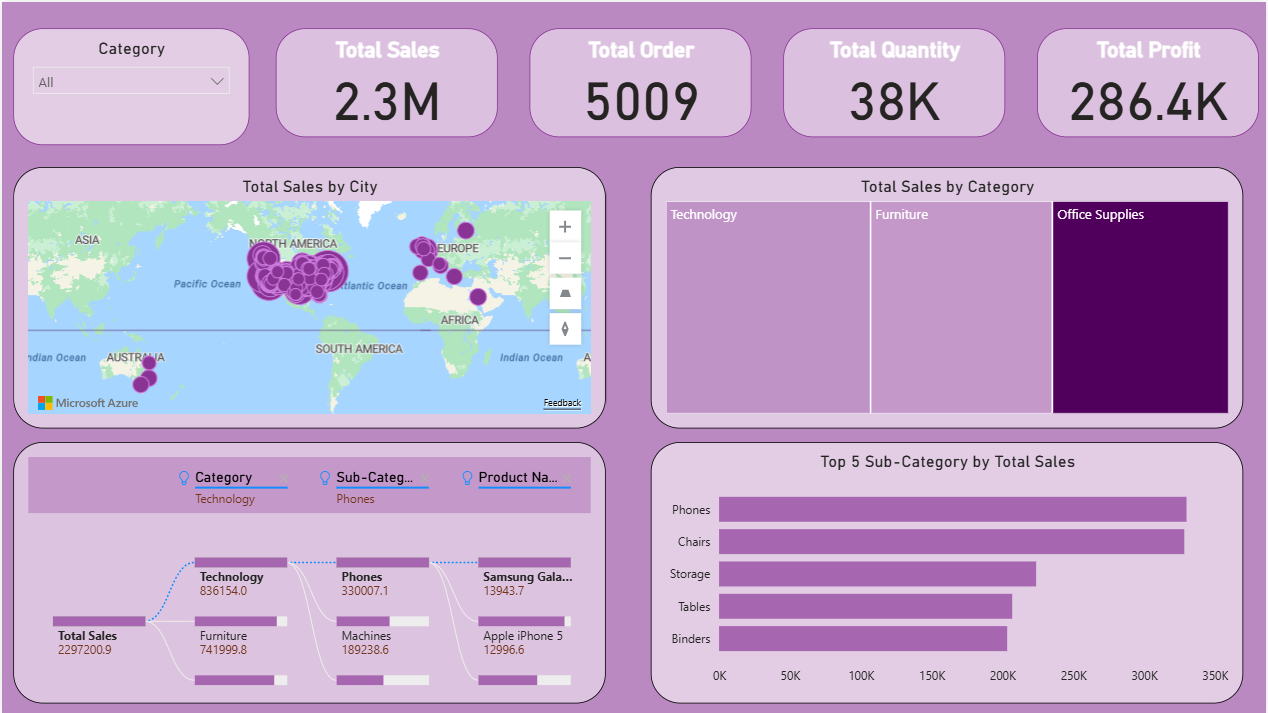

Layout of this report page (visuals, bound fields, positions):
{"tool":"powerbi","page":{"name":"Page 3","canvas":[1280,720],"ordinal":2},"visuals":[{"type":"card","title":"Total Order","fields":{"Values":["Dax_Measure.Total orders"]},"box":[534,27,225,110],"z":0},{"type":"card","title":"Total Sales","fields":{"Values":["Dax_Measure.Total Sales"]},"box":[277,27,225,110],"z":1000},{"type":"card","title":"Total Quantity","fields":{"Values":["Dax_Measure.Total Quantity"]},"box":[790.9,27,225,110],"z":2000},{"type":"card","title":"Total Profit","fields":{"Values":["Dax_Measure.Total Profit"]},"box":[1047.9,27,225,110],"z":3000},{"type":"slicer","title":"Category","fields":{"Values":["ProductDim.Category"]},"box":[10.9,26.5,238.9,118.2],"z":4000},{"type":"azureMap","fields":{"Size":["Dax_Measure.Total Sales"],"Category":["CustomerDim.City"]},"box":[11.4,167.1,600,265],"z":5000},{"type":"treemap","fields":{"Group":["ProductDim.Category Hierarchy.Category","ProductDim.Category Hierarchy.Sub-Category","ProductDim.Category Hierarchy.Product Name"],"Values":["Dax_Measure.Total Sales"]},"box":[657,167.1,600,264.6],"z":6000},{"type":"decompositionTreeVisual","fields":{"ExplainBy":["ProductDim.Category Hierarchy.Category","ProductDim.Category Hierarchy.Sub-Category","ProductDim.Category Hierarchy.Product Name"],"Analyze":["Dax_Measure.Total Sales"]},"box":[11.4,445.6,600,264.6],"z":7000},{"type":"clusteredBarChart","title":"Top 5 Sub-Category by Total Sales","fields":{"Y":["Dax_Measure.Total Sales"],"Category":["ProductDim.Sub-Category"]},"box":[657,445.6,600,264.6],"z":8000}]}

Visuals, with their boxes in screenshot pixels (x1, y1, x2, y2), scaled from the page's 1280x720 canvas onto the 1268x713 screenshot:
"Total Order" card: [529,27,752,136]
"Total Sales" card: [274,27,497,136]
"Total Quantity" card: [783,27,1006,136]
"Total Profit" card: [1038,27,1261,136]
"Category" slicer: [11,26,247,143]
azureMap - Dax_Measure.Total Sales x CustomerDim.City: [11,165,606,428]
treemap - ProductDim.Category Hierarchy.Category x ProductDim.Category Hierarchy.Sub-Category: [651,165,1245,428]
decompositionTreeVisual - ProductDim.Category Hierarchy.Category x ProductDim.Category Hierarchy.Sub-Category: [11,441,606,703]
"Top 5 Sub-Category by Total Sales" clusteredBarChart: [651,441,1245,703]
